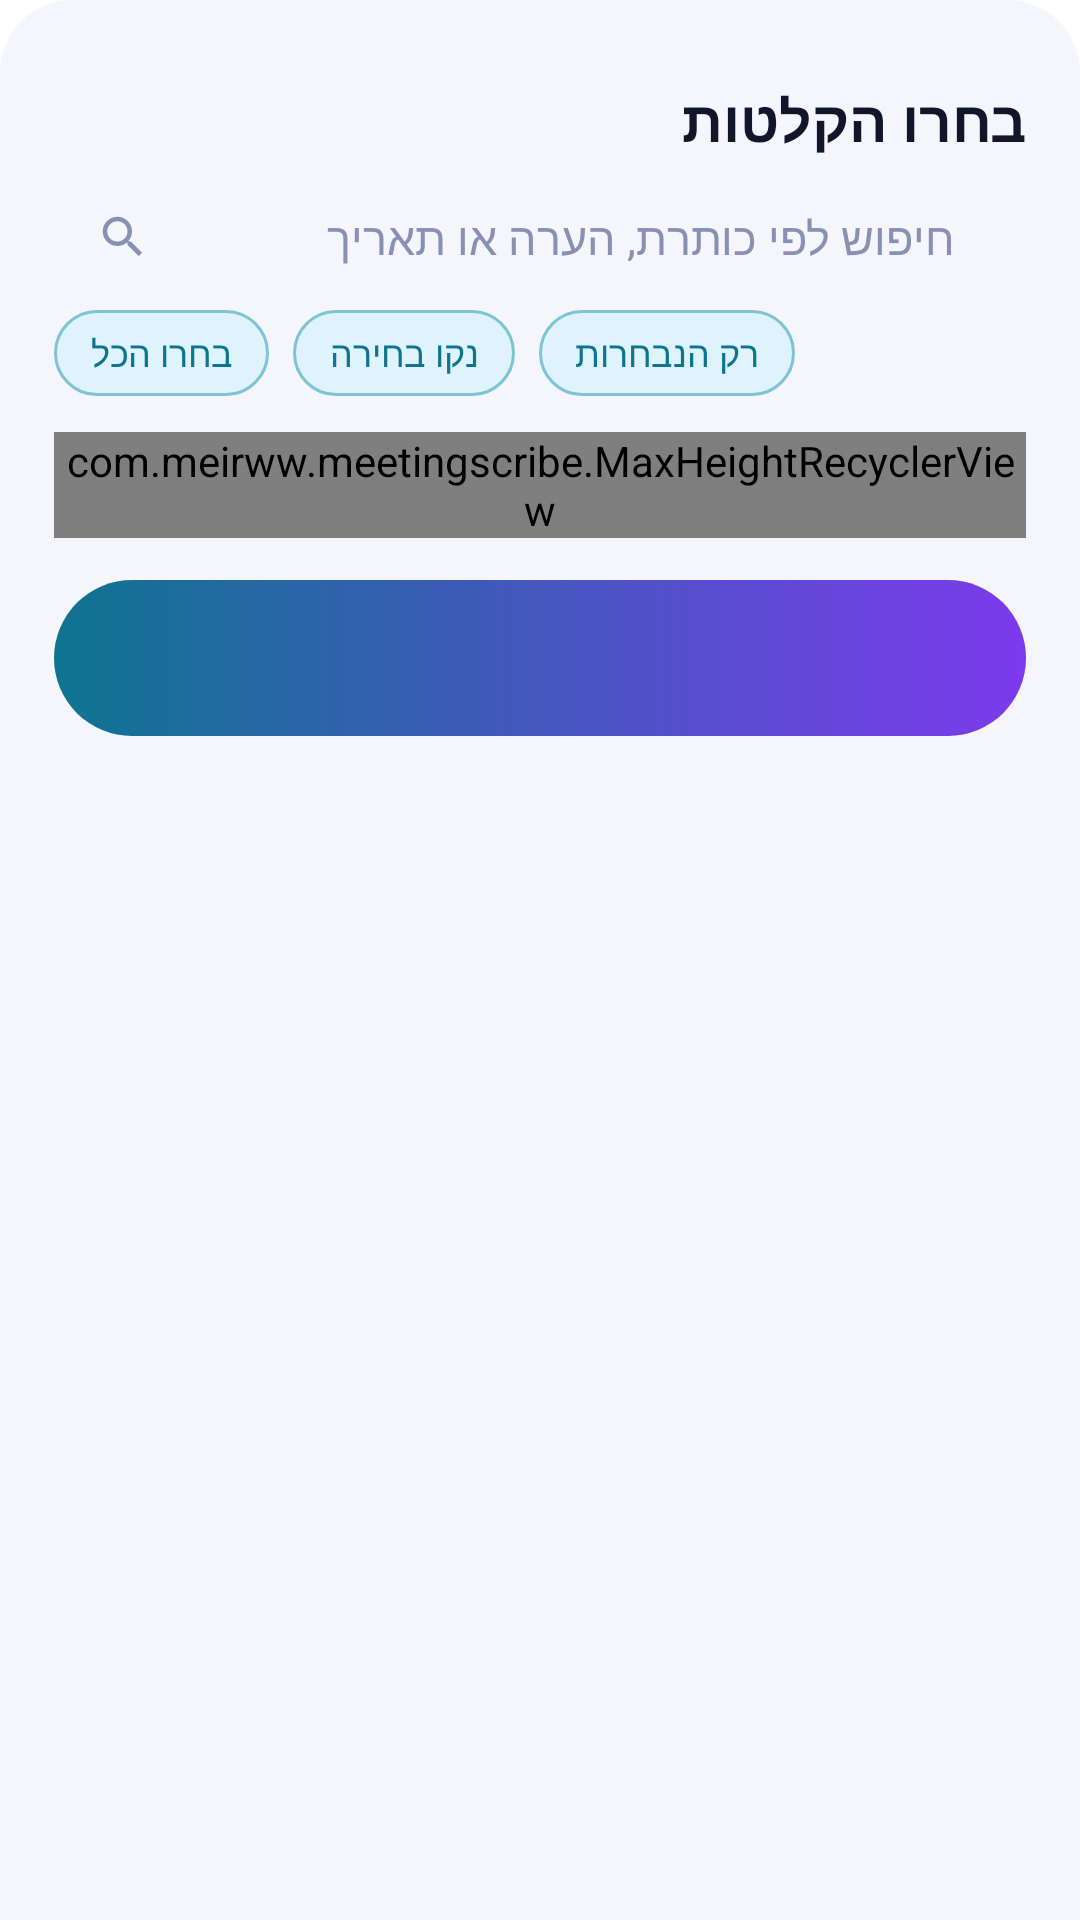

Screen size 1080*1920. Icon name, then its box in pixels as [x1, y1, x2, y2]:
search: [102, 216, 142, 256]
